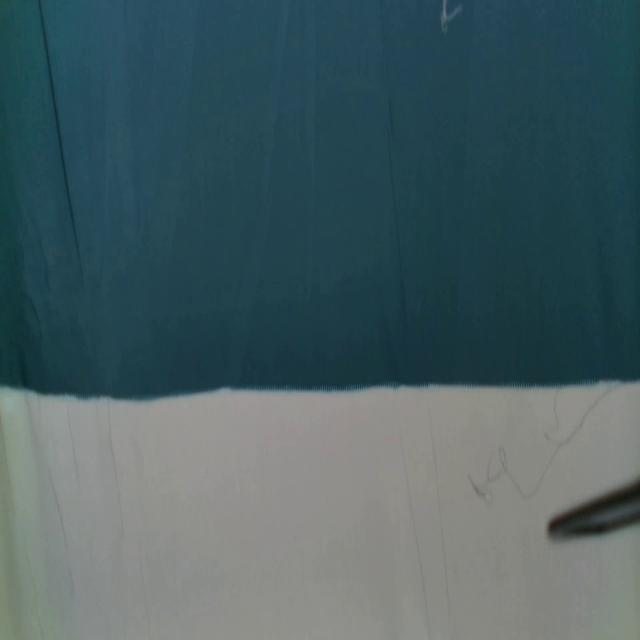crease: (36, 0, 84, 289), (405, 461, 431, 640), (431, 420, 454, 618), (45, 464, 76, 594), (105, 396, 124, 501)
